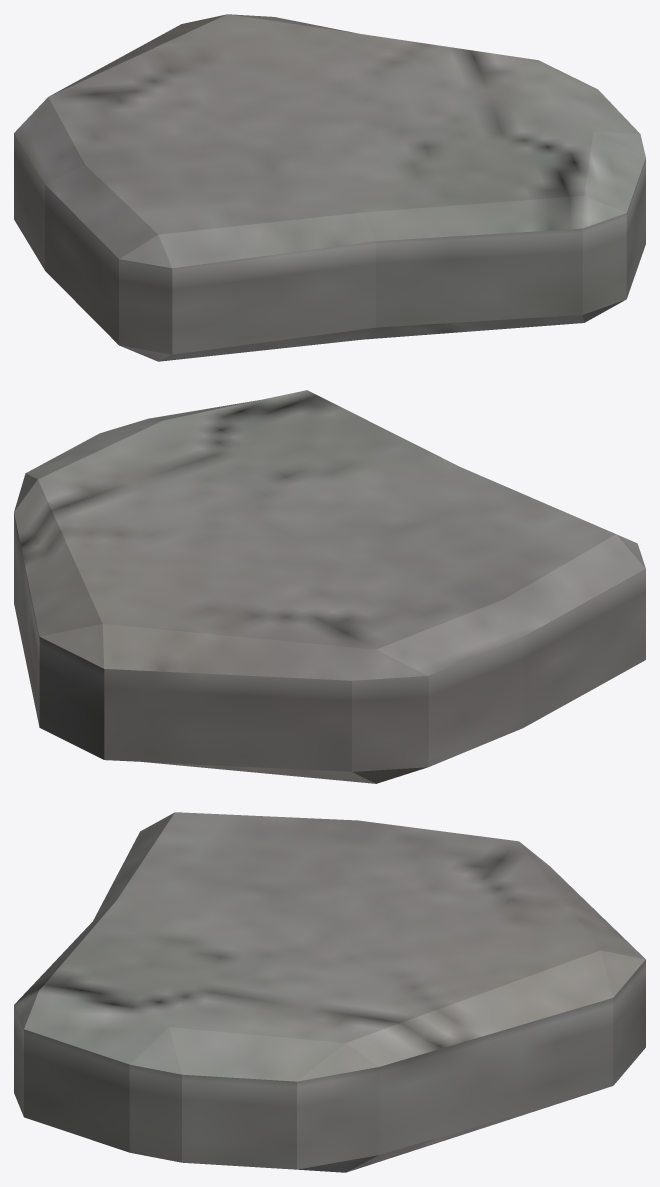
The model's file is Stone_02.fbx.
3 views of the same model, one above another, from view 1: azimuth 30°, elevation 25°; view 2: azimuth 150°, elevation 25°; view 3: azimuth 270°, elevation 25° (orthographic). The views are drawn at different scales.
Visible parts, largest first — view 1: Stone_02; view 2: Stone_02; view 3: Stone_02.
Part boxes in pixels (x1,y1,x2,y2): Stone_02: (14, 14, 645, 361); Stone_02: (14, 390, 645, 783); Stone_02: (14, 812, 645, 1172).
Bounding box in the file's own units: 133 × 30.31 × 134.
